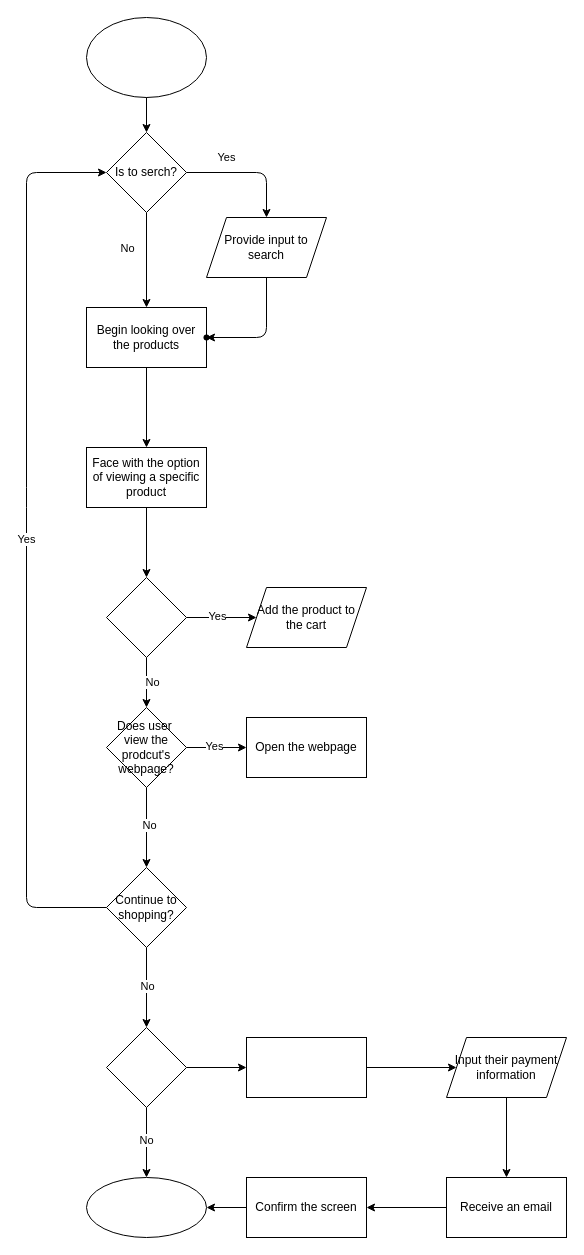
This 584x1255 diagram has some shape labels left out. The shapes that lost their labels are listed below. From the top down, each one's box as (x1, y1, x2, y2) in pixels, then its label:
(86, 16, 206, 98): Enter the website
(106, 576, 186, 658): Is this product added to the cart?
(106, 1026, 186, 1108): Check out?
(246, 1036, 366, 1098): View the cart
(86, 1176, 206, 1238): Leave the website
